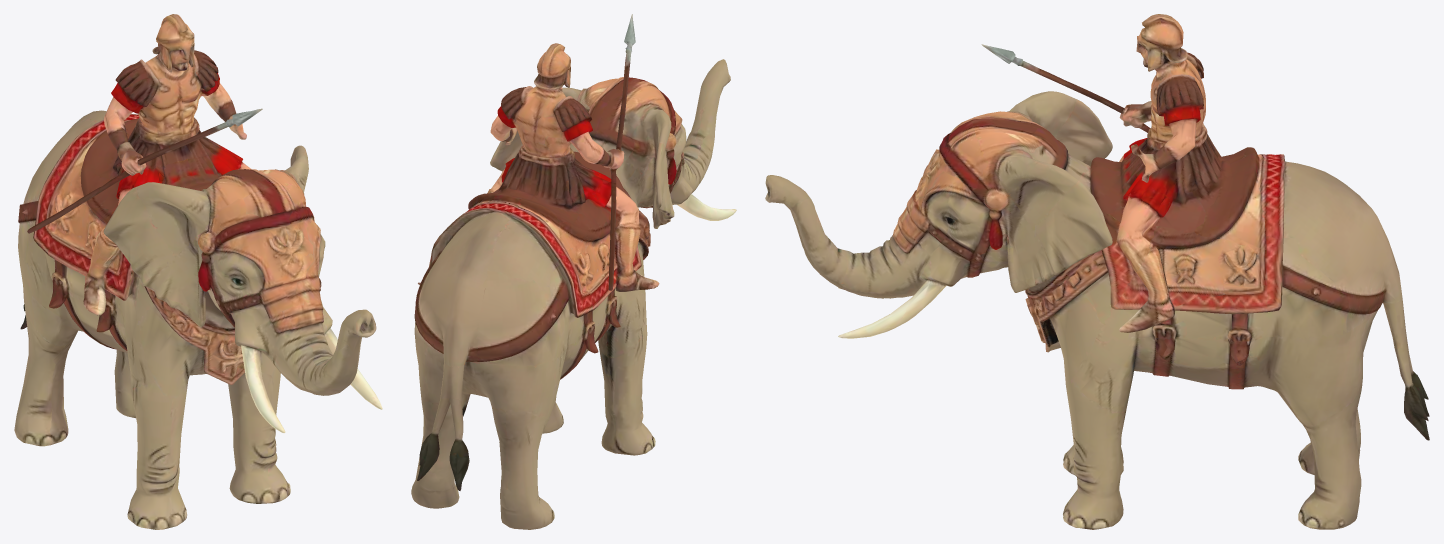
File: elephant.glb
The picture shows the model from 3 angles, left to right: view 1: azimuth 30°, elevation 25°; view 2: azimuth 150°, elevation 25°; view 3: azimuth 270°, elevation 25°; orthographic projection. The views are drawn at different scales.
Bounding box in the file's own units: 0.7082 × 1.5 × 1.9.
Materials: 1 (1 with a texture image).
